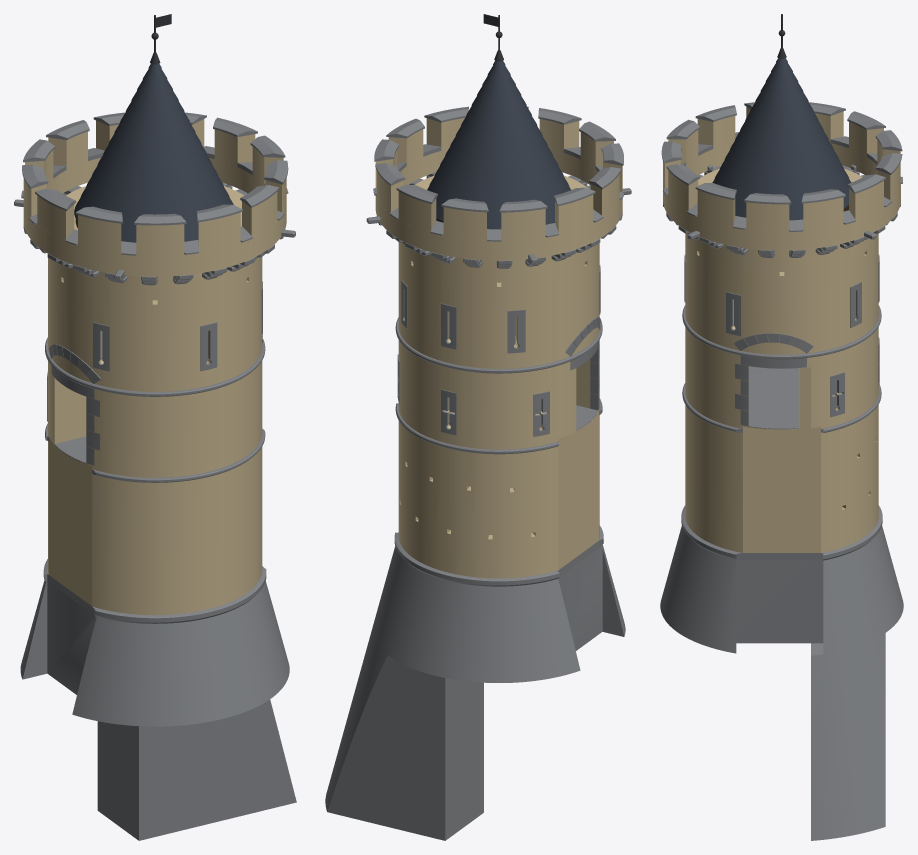
The picture shows the model from 3 angles, left to right: view 1: azimuth 30°, elevation 25°; view 2: azimuth 150°, elevation 25°; view 3: azimuth 270°, elevation 25°; orthographic projection. The views are drawn at different scales.
Parts seen in each view (by area): view 1: Mesh_GateTower_ck-limestone-ashlar, Mesh_GateTower_ck-rubble, Mesh_GateTower_ck-granite-ashlar, Mesh_GateTower_ck-slate; view 2: Mesh_GateTower_ck-limestone-ashlar, Mesh_GateTower_ck-rubble, Mesh_GateTower_ck-granite-ashlar, Mesh_GateTower_ck-slate; view 3: Mesh_GateTower_ck-limestone-ashlar, Mesh_GateTower_ck-rubble, Mesh_GateTower_ck-granite-ashlar, Mesh_GateTower_ck-slate.
Boxes of the visible parts, <box> form: Mesh_GateTower_ck-limestone-ashlar: <box>23,119,286,615</box>; Mesh_GateTower_ck-rubble: <box>20,580,296,840</box>; Mesh_GateTower_ck-granite-ashlar: <box>14,112,295,623</box>; Mesh_GateTower_ck-slate: <box>74,64,233,242</box>; Mesh_GateTower_ck-limestone-ashlar: <box>375,118,622,578</box>; Mesh_GateTower_ck-rubble: <box>325,544,625,840</box>; Mesh_GateTower_ck-granite-ashlar: <box>366,106,631,586</box>; Mesh_GateTower_ck-slate: <box>427,61,570,229</box>; Mesh_GateTower_ck-limestone-ashlar: <box>663,106,900,552</box>; Mesh_GateTower_ck-rubble: <box>660,526,903,840</box>; Mesh_GateTower_ck-granite-ashlar: <box>661,102,902,560</box>; Mesh_GateTower_ck-slate: <box>712,58,851,220</box>.
Size of the model in its own units: 10.33 by 30.2 by 8.8.
